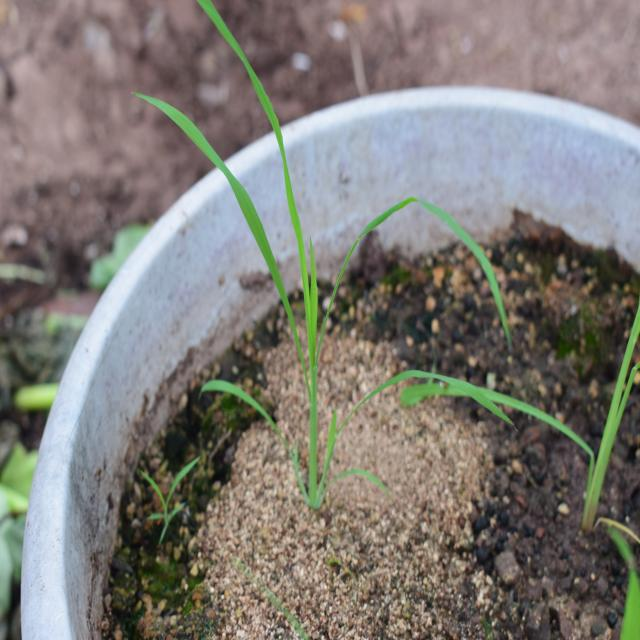barnyard_grass: (126, 21, 511, 480)
